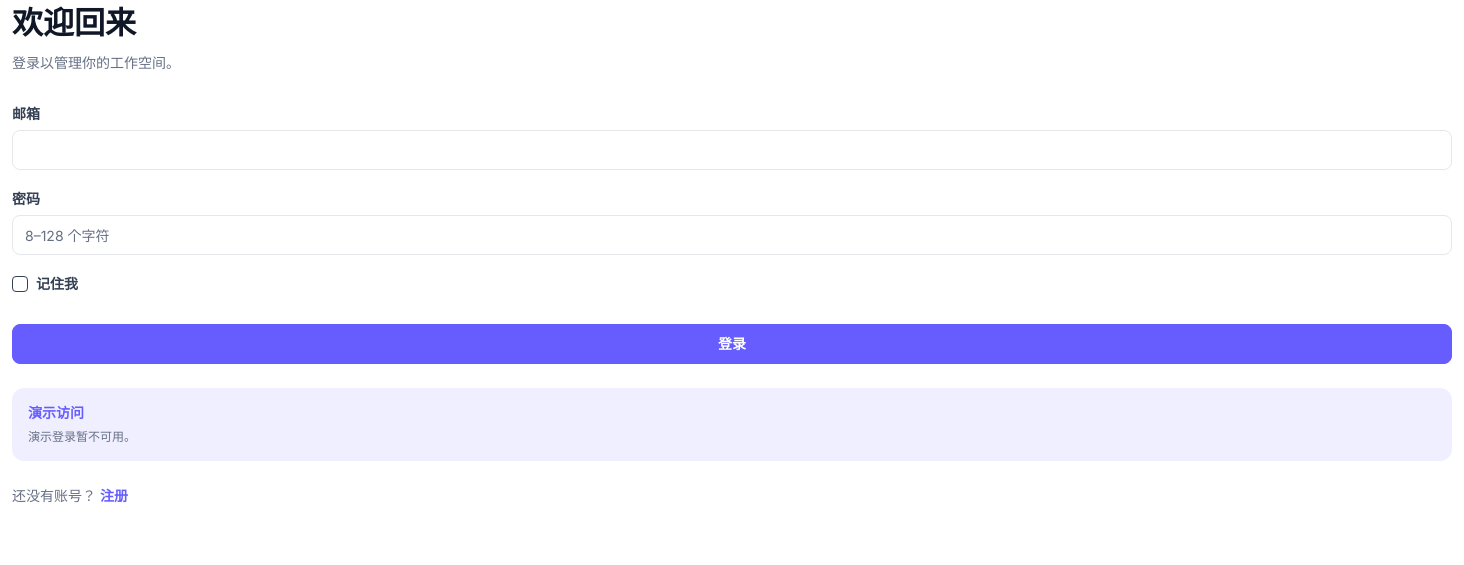
Test case: Chinese login failure feedback › localizes safe unknown authentication failures without exposing provider details
The image size is (1464, 565).
Type "tester@example.com" into the field labelled "邮箱". click: (732, 150)
box: top-left (12, 130), bottom-right (1452, 170)
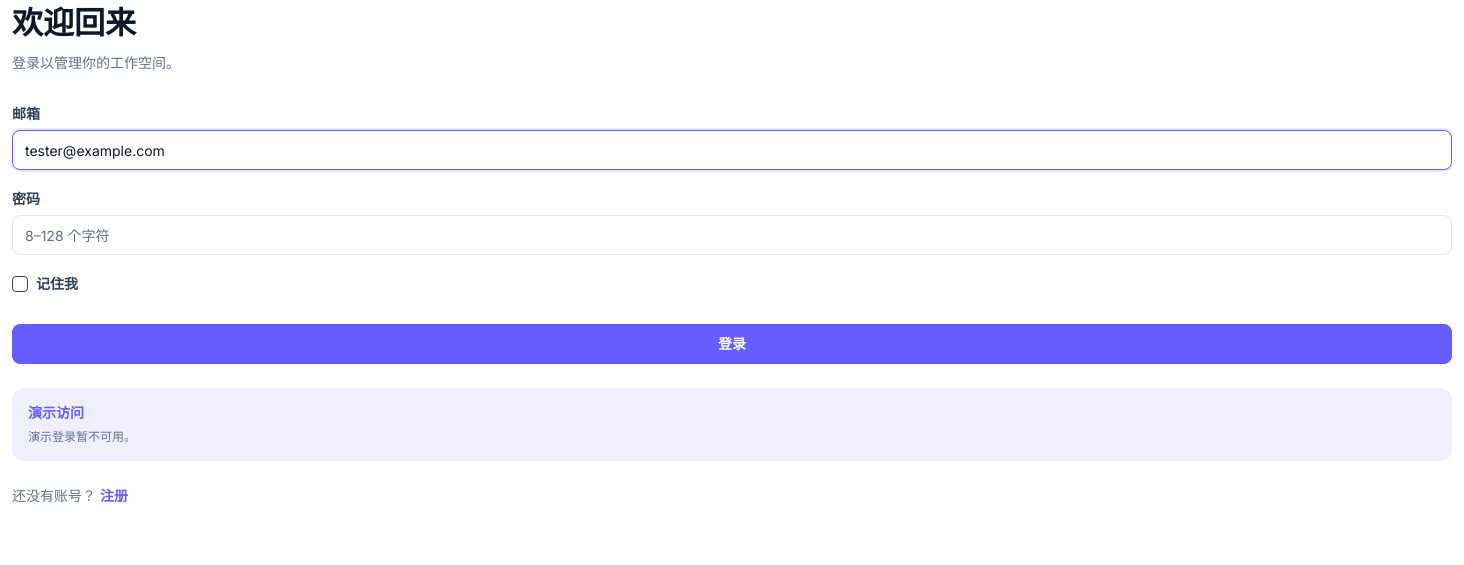
Type "ValidPassword123!" into the password field labelled "密码". click: (732, 235)
box: top-left (12, 215), bottom-right (1452, 255)
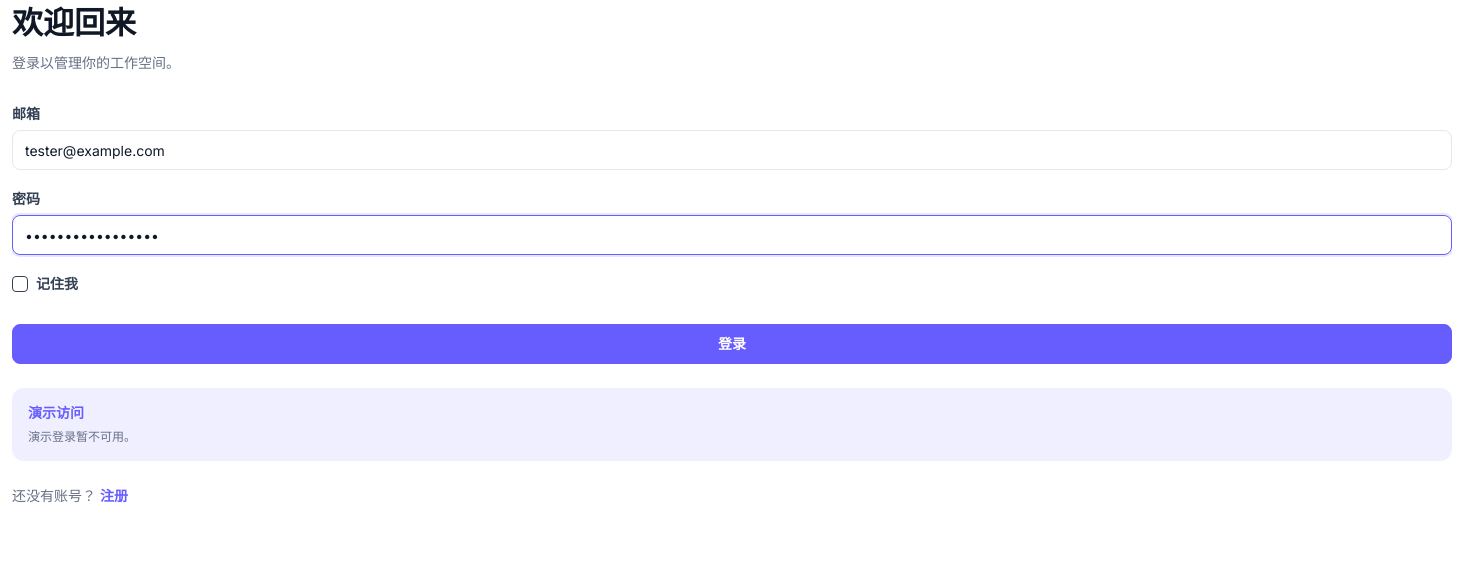
Click the button "登录". click: (732, 344)
box: top-left (12, 324), bottom-right (1452, 364)
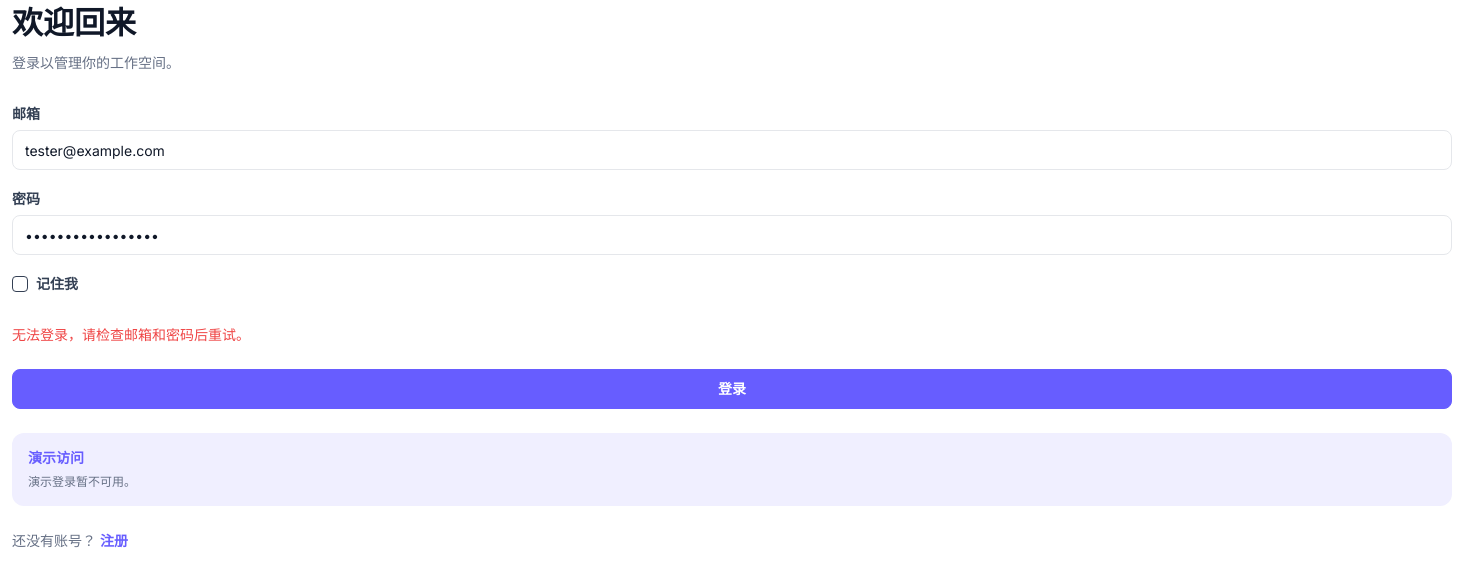
Expected: the message does not show "private database details", top-left (12, 326), bottom-right (250, 343)
Result: the message reads "无法登录，请检查邮箱和密码后重试。" at top-left (12, 326), bottom-right (250, 343)
